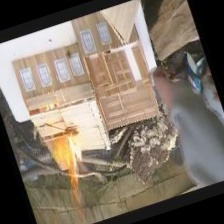fire: (33, 125, 110, 224)
